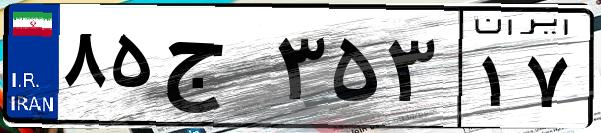1: (475, 38, 525, 113)
3: (270, 28, 330, 110), (385, 28, 445, 110)
5: (330, 28, 385, 110), (110, 28, 158, 98)
7: (525, 38, 570, 115)
8: (57, 26, 110, 100)
ج: (158, 20, 270, 120)
